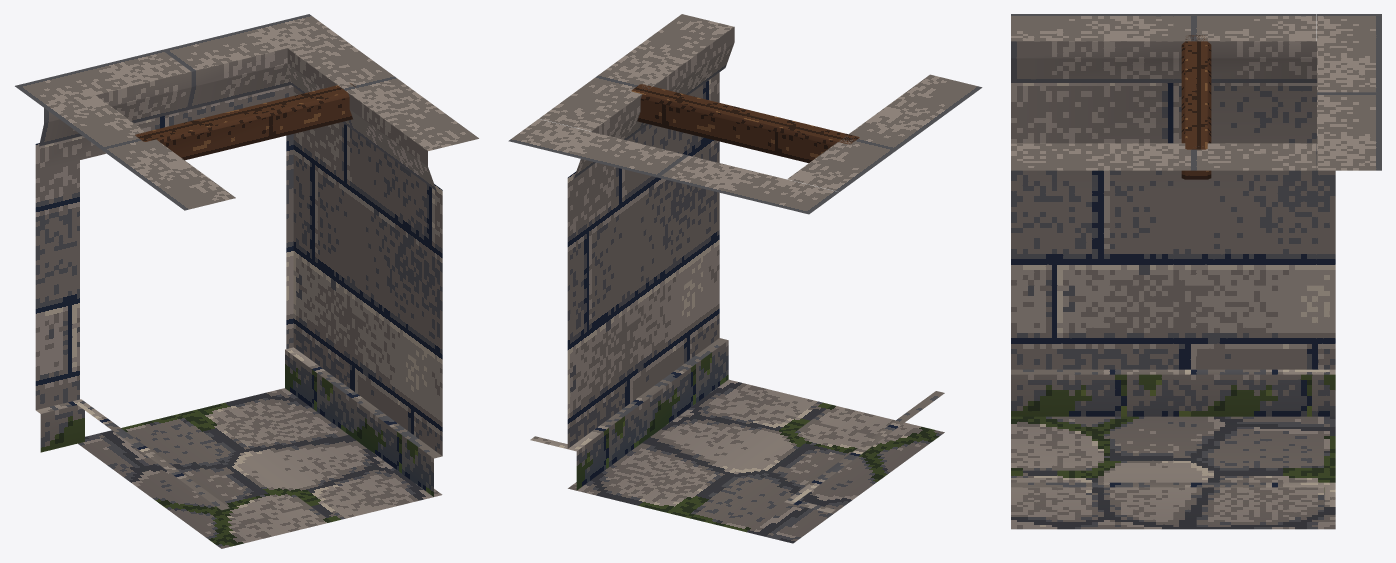
The model's file is dgn.corridor__end_door.glb.
3 renders of one model, left to right at view 1: azimuth 30°, elevation 25°; view 2: azimuth 150°, elevation 25°; view 3: azimuth 270°, elevation 25°, orthographic. The views are drawn at different scales.
Parts seen in each view (by area): view 1: kit_shell_walls, kit_shell_floor, kit_beams; view 2: kit_shell_walls, kit_shell_floor, kit_beams; view 3: kit_shell_walls, kit_shell_floor, kit_beams.
Part boxes in pixels (x1,y1,x2,y2): kit_shell_walls: [15, 14, 478, 510]; kit_shell_floor: [78, 388, 442, 548]; kit_beams: [135, 83, 355, 160]; kit_shell_walls: [508, 14, 982, 513]; kit_shell_floor: [568, 379, 944, 543]; kit_beams: [631, 84, 859, 163]; kit_shell_walls: [1011, 14, 1381, 506]; kit_shell_floor: [1011, 416, 1335, 529]; kit_beams: [1181, 35, 1211, 179].
Size of the model in its own units: 4 by 4.5 by 4.
6 materials, 6 textured.
